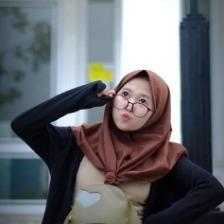Non Syar-i: (68, 66, 192, 187)
